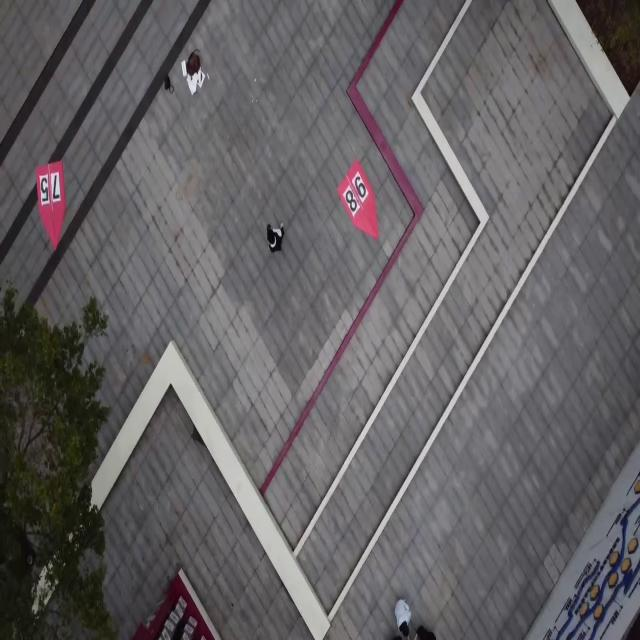-sign-: (336, 158, 379, 242), (35, 160, 65, 249)
